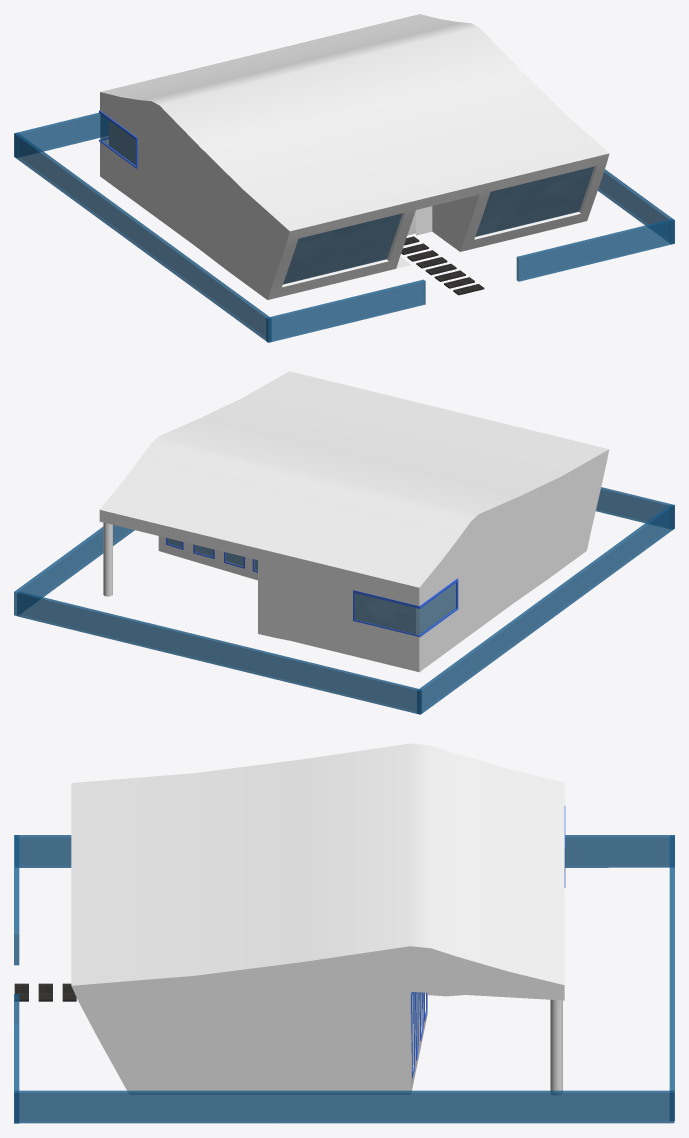
Rendered from Casa Low Poly v1-2.FBX.
3 views of the same model, one above another, from view 1: azimuth 30°, elevation 25°; view 2: azimuth 150°, elevation 25°; view 3: azimuth 270°, elevation 25° (orthographic). The views are drawn at different scales.
Visible parts, largest first — view 1: Casa, Cristales, Box021, Box019, Box016, Box017, Box020, Box018; view 2: Casa, Box020, Box019, Cristales, Box021, Box018, Box016, Box005, Cylinder001; view 3: Casa, Box018, Box019, Box020, Cylinder001, Box016, Box017.
Part boxes in pixels (<box>): Casa: <box>100,14,609,299</box>; Cristales: <box>100,114,593,284</box>; Box021: <box>109,120,593,283</box>; Box019: <box>14,132,271,342</box>; Box016: <box>266,279,425,342</box>; Box017: <box>516,219,674,281</box>; Box020: <box>15,112,108,157</box>; Box018: <box>598,169,674,243</box>; Casa: <box>99,371,609,672</box>; Box020: <box>17,591,421,714</box>; Box019: <box>417,504,674,714</box>; Cristales: <box>168,538,456,635</box>; Box021: <box>168,538,455,634</box>; Box018: <box>14,525,134,615</box>; Box016: <box>596,487,674,529</box>; Box005: <box>353,578,458,636</box>; Cylinder001: <box>103,522,112,596</box>; Casa: <box>71,743,564,1094</box>; Box018: <box>14,1090,674,1123</box>; Box019: <box>15,835,674,867</box>; Box020: <box>669,836,674,1121</box>; Cylinder001: <box>550,999,562,1094</box>; Box016: <box>14,835,19,965</box>; Box017: <box>14,994,19,1123</box>.
Size of the model in its own units: 5 by 1.36 by 5.41.
Materials: 5 (2 with a texture image).
